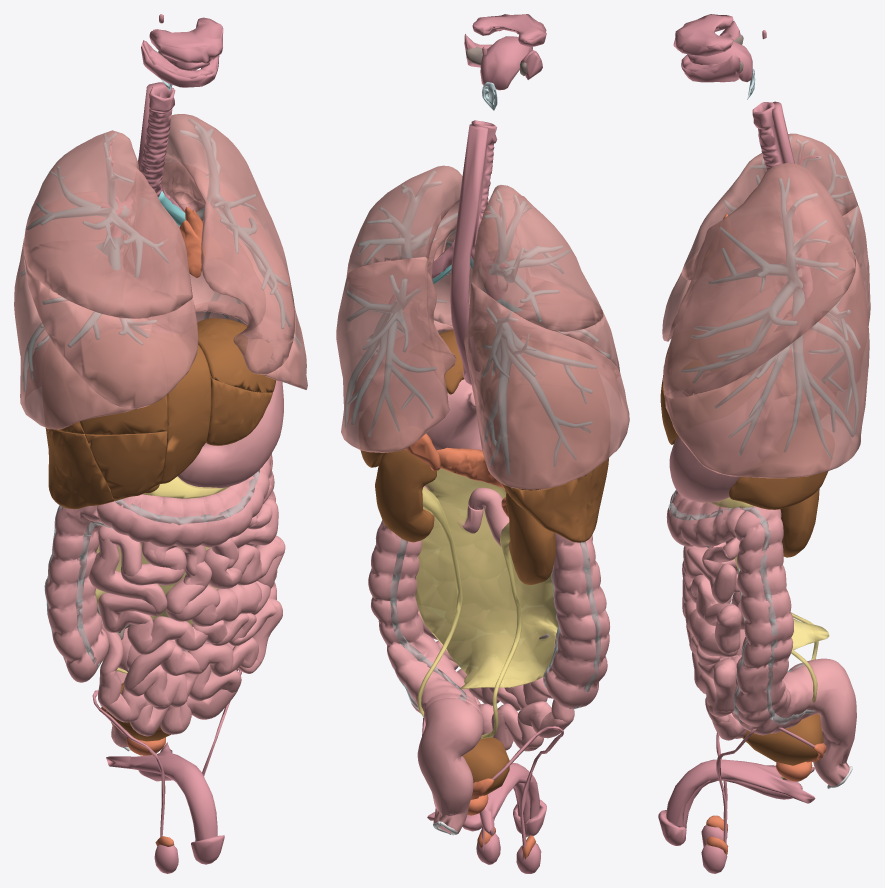
The model's file is viscera.glb.
3 renders of one model, left to right at view 1: azimuth 30°, elevation 25°; view 2: azimuth 150°, elevation 25°; view 3: azimuth 270°, elevation 25°, orthographic.
Parts seen in each view (by area): view 1: Object_59, Object_53, Object_70, Object_66, Object_2, Object_77; view 2: Object_59, Object_53, Object_77, Object_2, Object_66, Object_70; view 3: Object_59, Object_53, Object_2, Object_66, Object_70, Object_77.
Part boxes in pixels (x1,y1,x2,y2): Object_59: (14, 114, 307, 670); Object_53: (45, 380, 285, 747); Object_70: (45, 318, 275, 741); Object_66: (92, 14, 241, 873); Object_2: (21, 50, 301, 846); Object_77: (95, 476, 229, 673); Object_59: (336, 165, 629, 717); Object_53: (368, 379, 609, 834); Object_77: (415, 468, 558, 739); Object_2: (345, 46, 609, 859); Object_66: (389, 14, 563, 873); Object_70: (360, 329, 608, 795); Object_59: (662, 133, 870, 728); Object_53: (666, 436, 856, 786); Object_2: (682, 34, 860, 854); Object_66: (658, 14, 818, 873); Object_70: (660, 348, 828, 765); Object_77: (703, 497, 829, 702).
Size of the model in its own units: 0.2614 by 0.8264 by 0.1905.
Materials: 6 (6 with a texture image).
